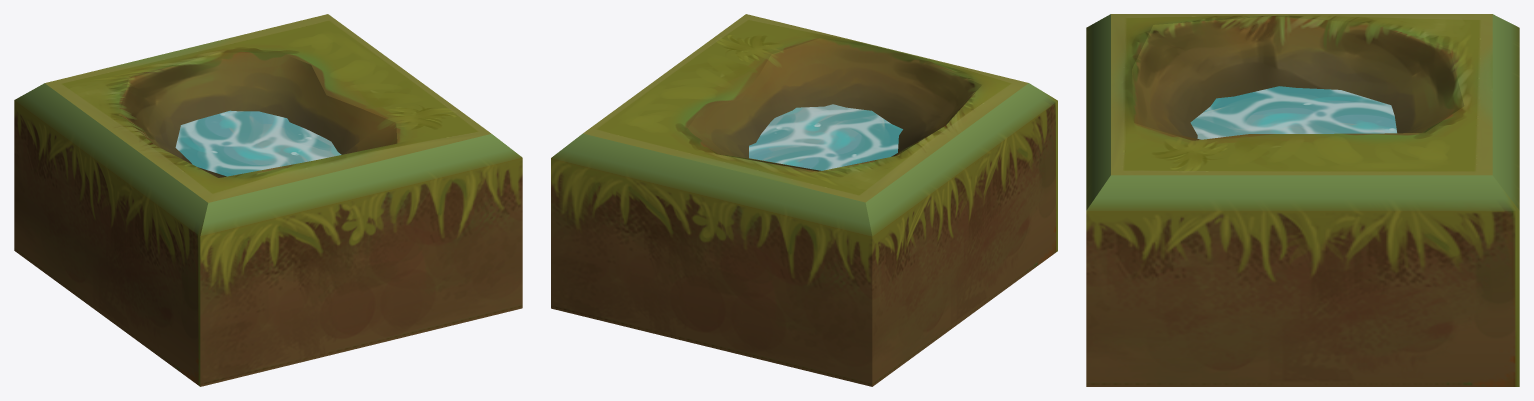
Rendered from tile_Pond3.FBX.
3 views of the same model, side by side, from view 1: azimuth 30°, elevation 25°; view 2: azimuth 150°, elevation 25°; view 3: azimuth 270°, elevation 25° (orthographic). The views are drawn at different scales.
Parts seen in each view (by area): view 1: Tile_OasisShape; view 2: Tile_OasisShape; view 3: Tile_OasisShape.
Part boxes in pixels (x1,y1,x2,y2): Tile_OasisShape: (14,14,522,386); Tile_OasisShape: (551,14,1057,386); Tile_OasisShape: (1086,14,1519,386).
Size of the model in its own units: 25.2 by 13.43 by 25.2.
1 material, 1 textured.
